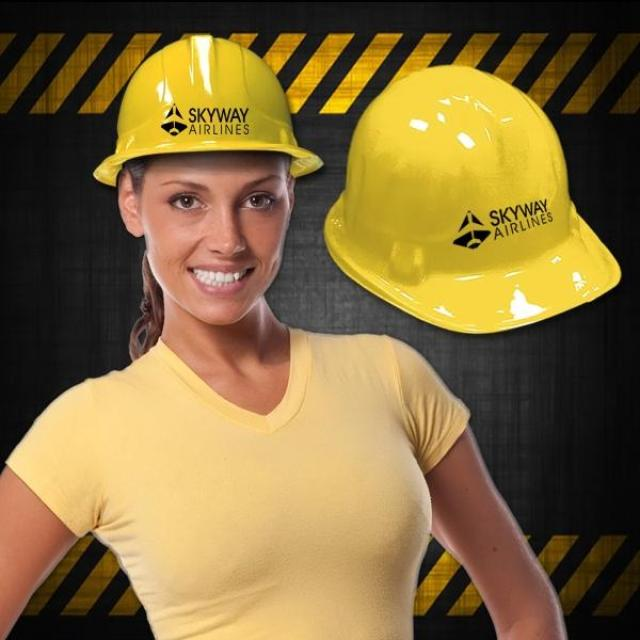helmet: (88, 28, 328, 325)
